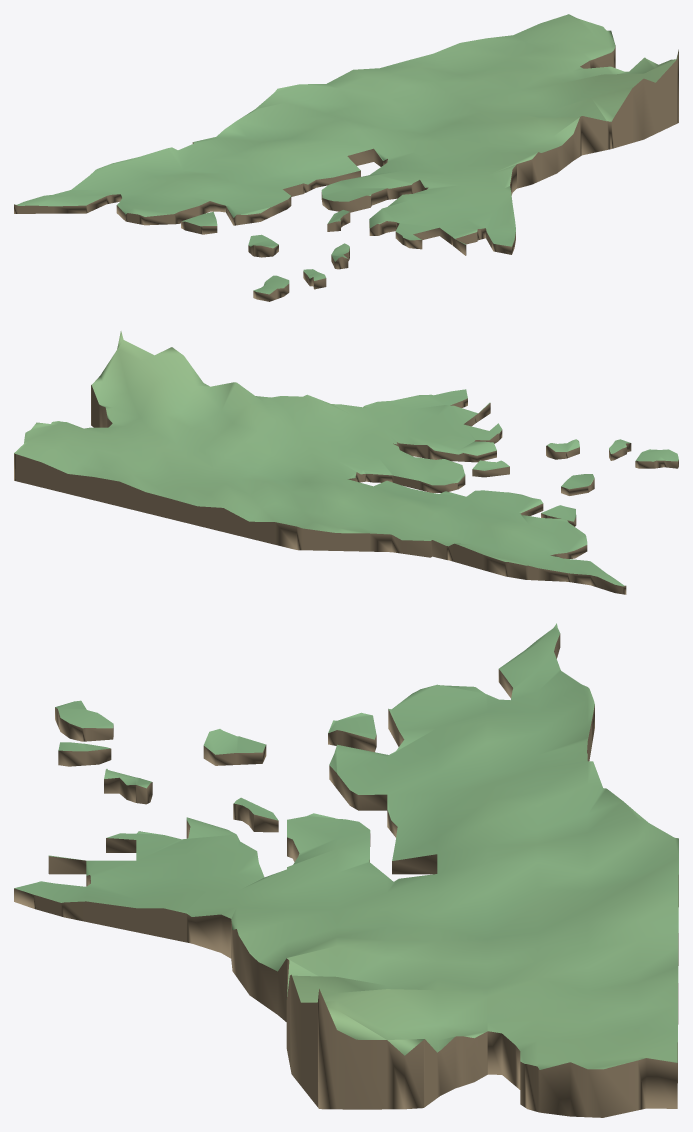
The model's file is GNB.glb.
3 renders of one model, top to bottom at view 1: azimuth 30°, elevation 25°; view 2: azimuth 150°, elevation 25°; view 3: azimuth 270°, elevation 25°, orthographic. The views are drawn at different scales.
Visible parts, largest first — view 1: GNB; view 2: GNB; view 3: GNB.
Part boxes in pixels (x1,y1,x2,y2): GNB: (14, 14, 678, 301); GNB: (14, 331, 678, 594); GNB: (14, 623, 678, 1117).
Size of the model in its own units: 1.67 by 0.1961 by 0.979.
